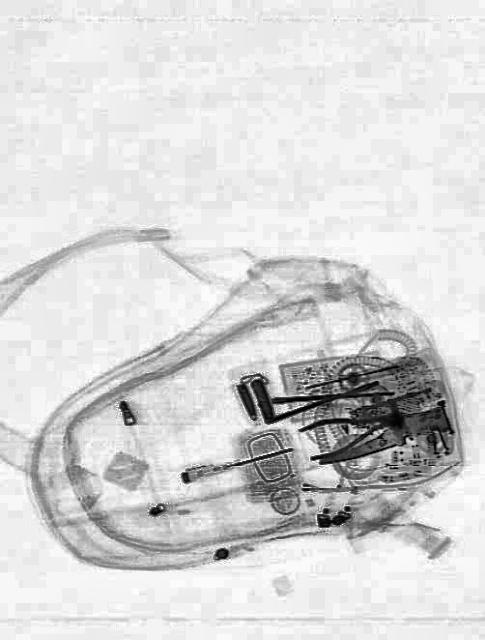Pliers: (298, 395, 404, 465)
